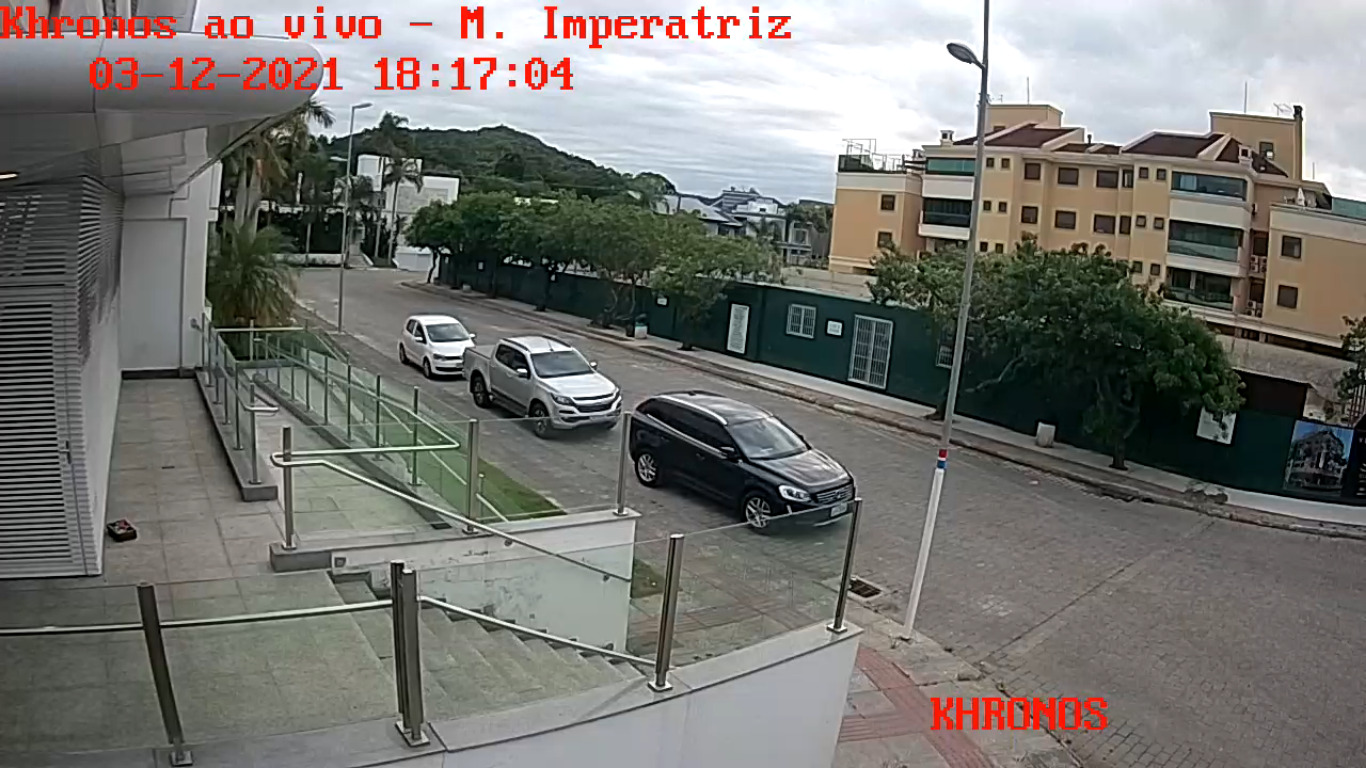car: (626, 387, 862, 537), (460, 330, 624, 439), (394, 311, 480, 384)
